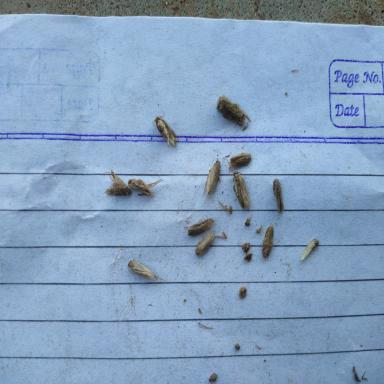pbw: (215, 95, 252, 128), (152, 107, 178, 145), (126, 258, 162, 281), (202, 157, 221, 200), (102, 168, 131, 195), (230, 172, 248, 211), (129, 175, 161, 196), (186, 217, 215, 237), (194, 233, 220, 254), (260, 224, 275, 258), (271, 175, 284, 214), (302, 237, 317, 261), (228, 154, 250, 168)
